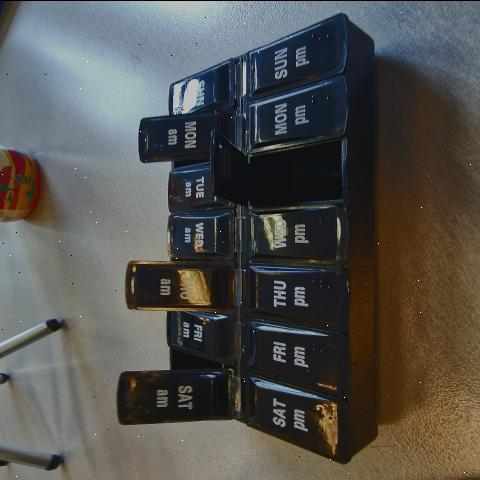Open: (212, 131, 344, 205), (124, 347, 230, 372)
